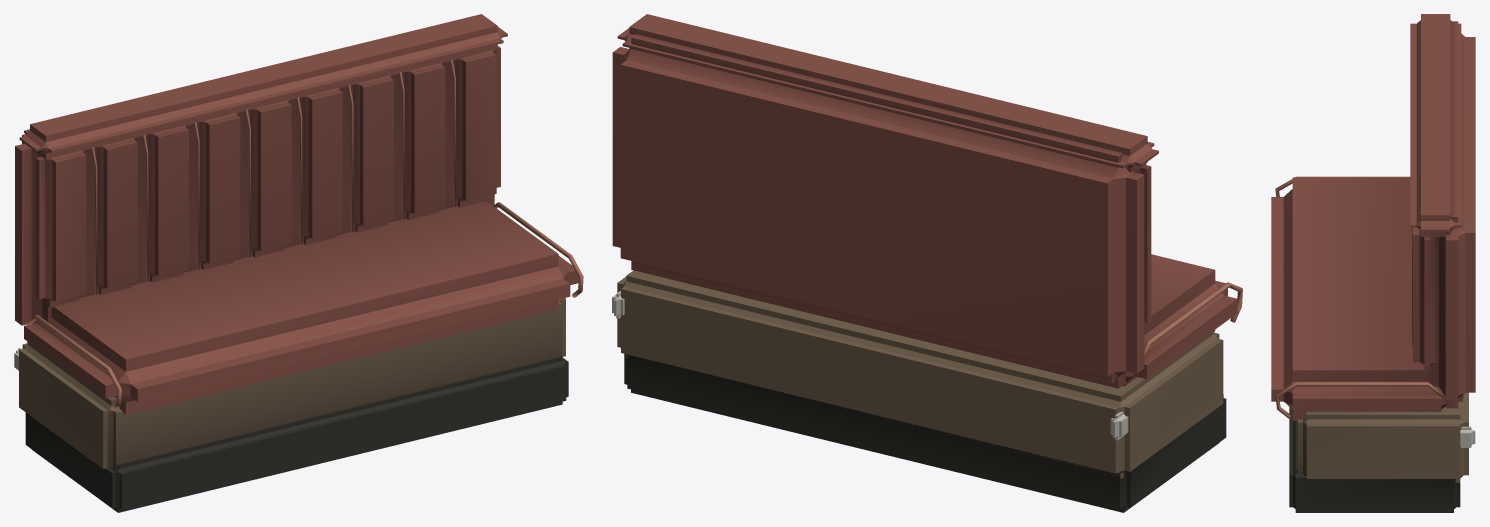
The model's file is diner-booth.glb.
3 renders of one model, left to right at view 1: azimuth 30°, elevation 25°; view 2: azimuth 150°, elevation 25°; view 3: azimuth 270°, elevation 25°, orthographic. The views are drawn at different scales.
Visible parts, largest first — view 1: Frame; view 2: Frame; view 3: Frame.
Part boxes in pixels (x1,y1,x2,y2): Frame: (14, 14, 583, 512); Frame: (612, 14, 1242, 512); Frame: (1271, 14, 1475, 512).
Bounding box in the file's own units: 1.57 × 1.04 × 0.6415.
